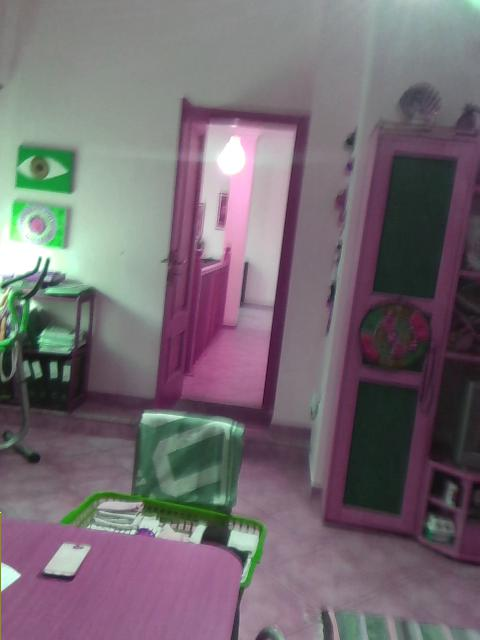open_door: (154, 94, 312, 434)
